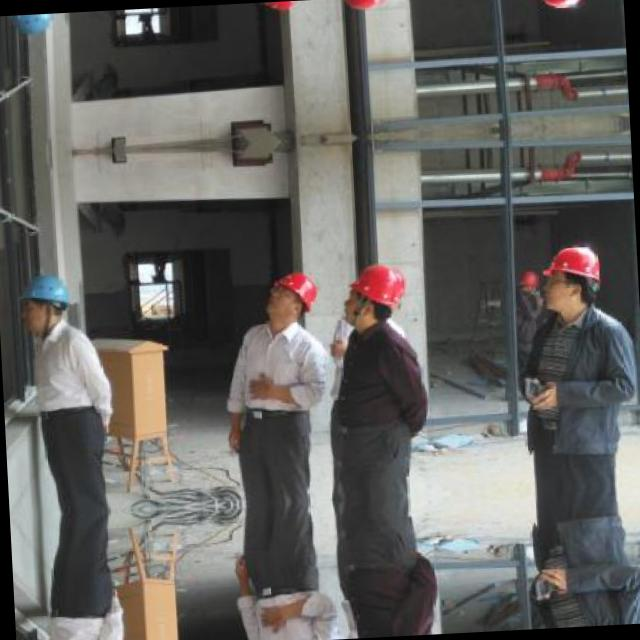helmet: (338, 259, 414, 332), (541, 240, 606, 318), (11, 264, 78, 336), (262, 264, 326, 326), (0, 13, 63, 42), (248, 0, 310, 17), (324, 0, 397, 13), (527, 0, 591, 11), (516, 266, 538, 294)
